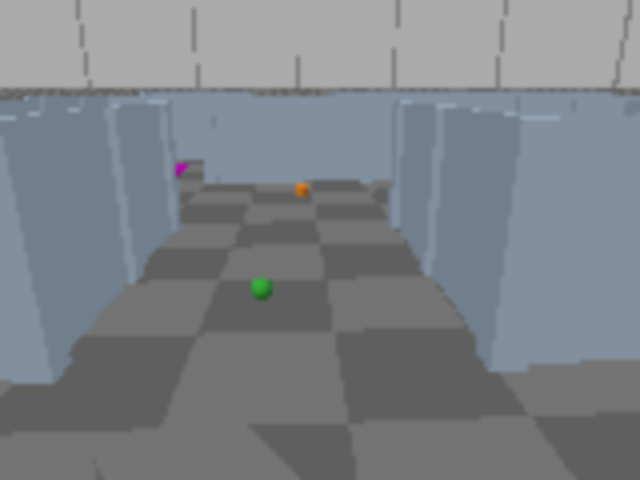obstacle: (93, 400, 305, 478)
puck: (249, 273, 275, 305)
